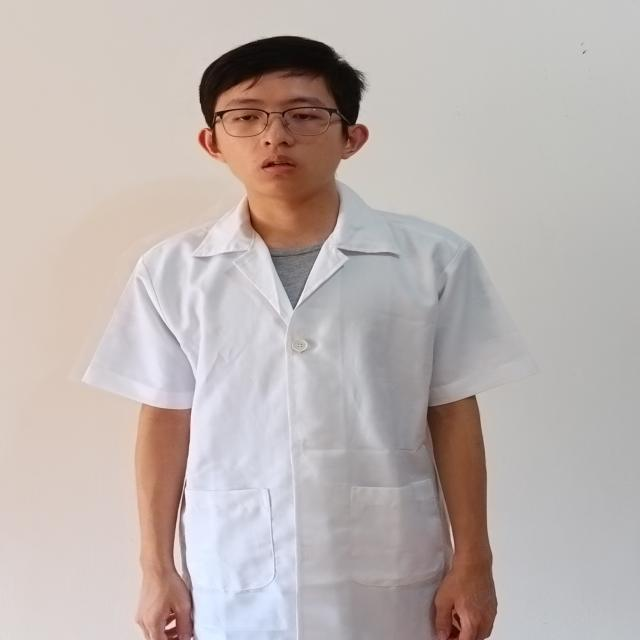person_with_labcoat: (83, 36, 536, 640)
